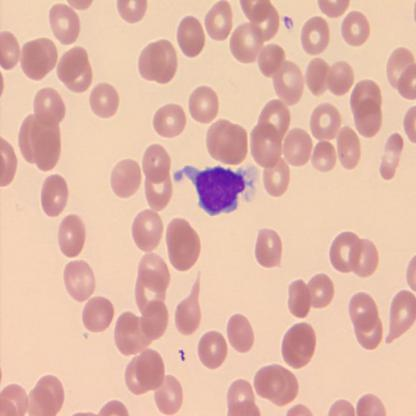Lymphocyte: (172, 159, 260, 215)
